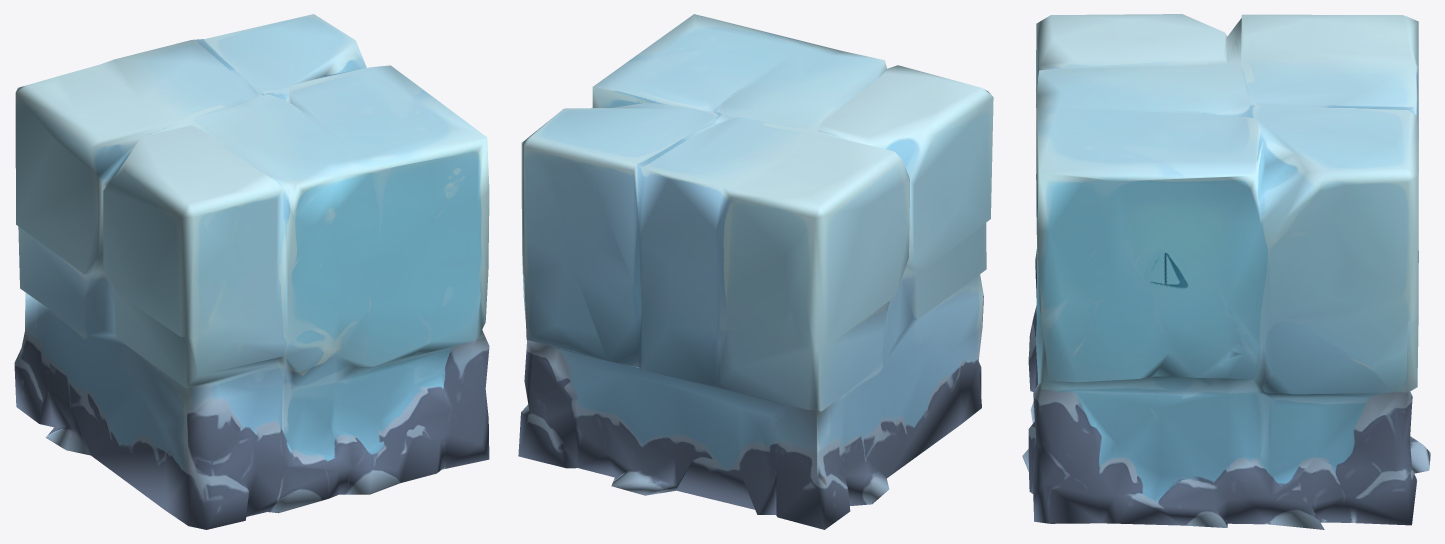
3 renders of one model, left to right at view 1: azimuth 30°, elevation 25°; view 2: azimuth 150°, elevation 25°; view 3: azimuth 270°, elevation 25°, orthographic. The views are drawn at different scales.
Visible parts, largest first — view 1: tripo_node_599695c7; view 2: tripo_node_599695c7; view 3: tripo_node_599695c7.
Part boxes in pixels (x1,y1,x2,y2): tripo_node_599695c7: [14, 14, 489, 529]; tripo_node_599695c7: [518, 14, 993, 529]; tripo_node_599695c7: [1022, 14, 1430, 529].
Size of the model in its own units: 0.9977 by 0.9483 by 0.9946.
Materials: 1 (1 with a texture image).
